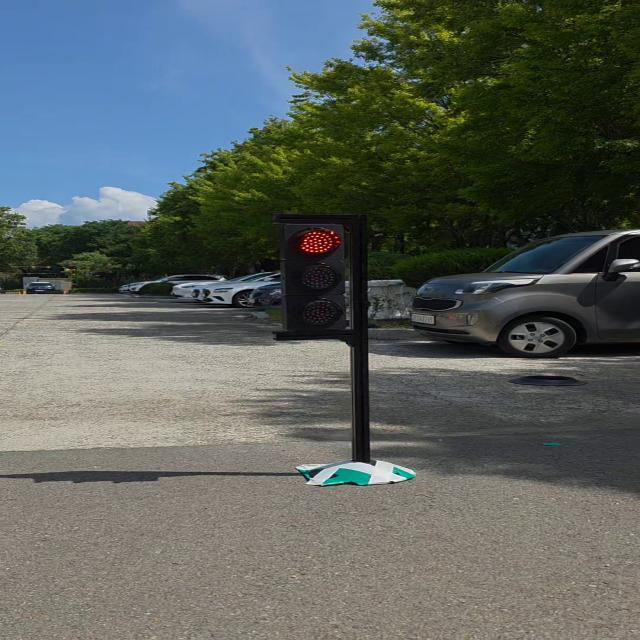red: (272, 214, 366, 336)
